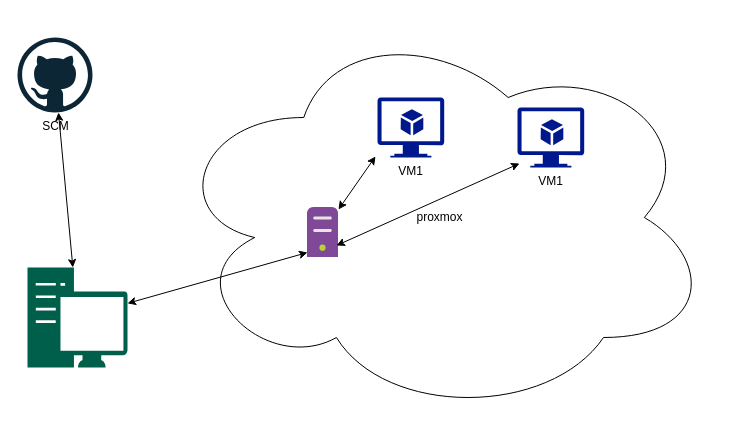
Some shapes in this 730 by 435 pixel diagram are drawn without their labels. Each missing label, with the box of its shape:
HOST: (307, 207, 338, 257)
Workstation: (27, 267, 127, 367)
